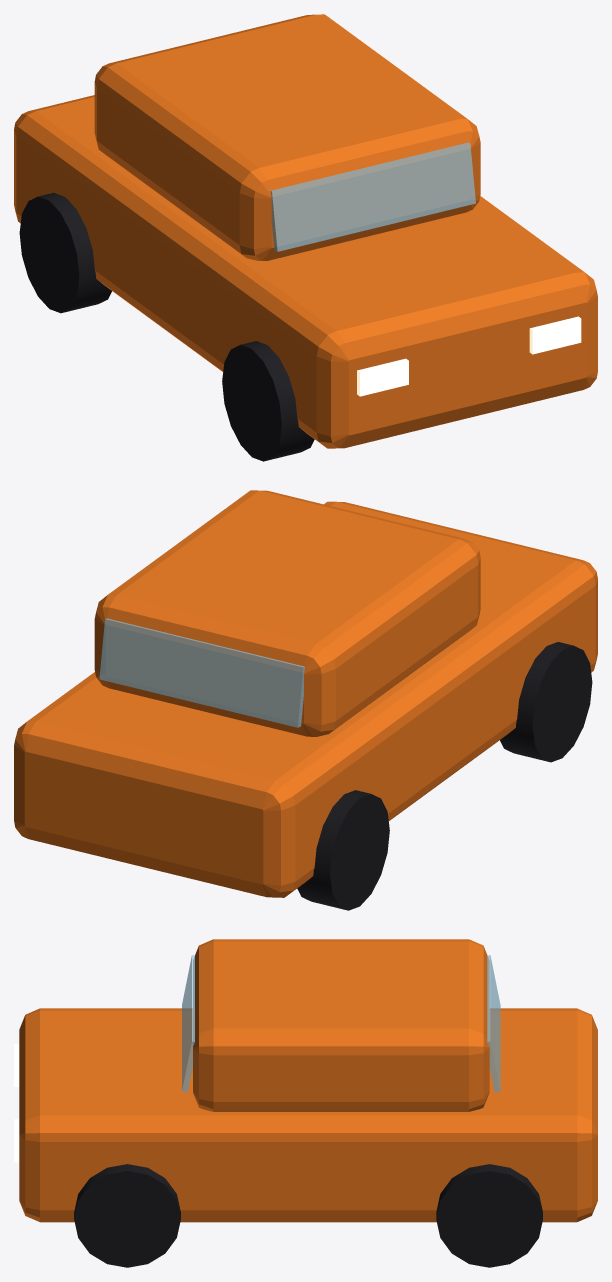
File: car_orange.glb
The picture shows the model from 3 angles, top to bottom: view 1: azimuth 30°, elevation 25°; view 2: azimuth 150°, elevation 25°; view 3: azimuth 270°, elevation 25°; orthographic projection. The views are drawn at different scales.
Visible parts, largest first — view 1: Body, Roof, Window_Front, Wheel_FL, Wheel_RL, Headlight_R, Headlight_L; view 2: Body, Roof, Window_Rear, Wheel_FL, Wheel_RL; view 3: Body, Roof, Wheel_RR, Wheel_FR, Window_Rear, Window_Front.
Part boxes in pixels (x1=…): Body: x1=14, y1=95, x2=597, y2=448; Roof: x1=94, y1=14, x2=480, y2=260; Window_Front: x1=270, y1=142, x2=475, y2=251; Wheel_FL: x1=222, y1=341, x2=314, y2=461; Wheel_RL: x1=19, y1=192, x2=111, y2=313; Headlight_R: x1=529, y1=316, x2=581, y2=354; Headlight_L: x1=357, y1=358, x2=408, y2=396; Body: x1=14, y1=501, x2=597, y2=897; Roof: x1=94, y1=490, x2=480, y2=736; Window_Rear: x1=99, y1=618, x2=304, y2=727; Wheel_FL: x1=500, y1=642, x2=592, y2=762; Wheel_RL: x1=297, y1=790, x2=389, y2=910; Body: x1=19, y1=1008, x2=597, y2=1222; Roof: x1=193, y1=939, x2=489, y2=1111; Wheel_RR: x1=436, y1=1164, x2=542, y2=1267; Wheel_FR: x1=74, y1=1164, x2=180, y2=1267; Window_Rear: x1=487, y1=955, x2=500, y2=1092; Window_Front: x1=182, y1=955, x2=194, y2=1092.
Bounding box in the file's own units: 2.16 × 1.6 × 3.94.
